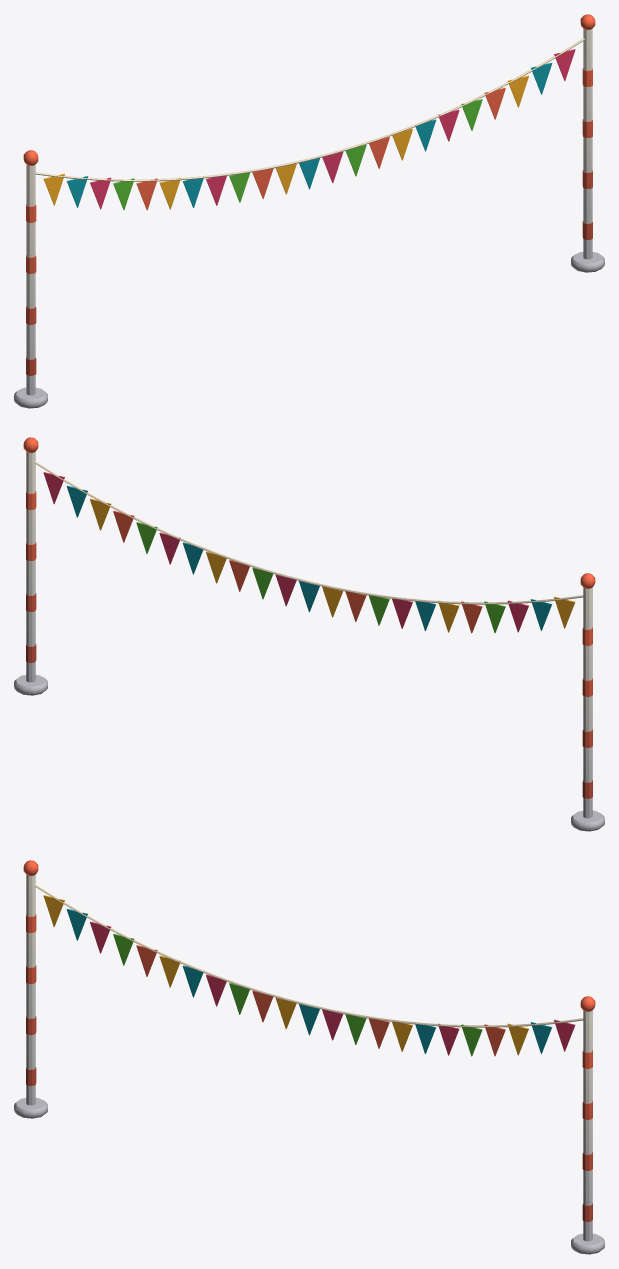
File: bunting.glb
3 views of the same model, one above another, from view 1: azimuth 30°, elevation 25°; view 2: azimuth 150°, elevation 25°; view 3: azimuth 330°, elevation 25° (orthographic).
Visible parts, largest first — view 1: bunting; view 2: bunting; view 3: bunting.
Part boxes in pixels (left/top/right/bottom): bunting: left=14, top=14, right=604, bottom=408; bunting: left=14, top=437, right=604, bottom=831; bunting: left=14, top=860, right=604, bottom=1254.
Size of the model in its own units: 8.42 by 3.45 by 0.4214.
